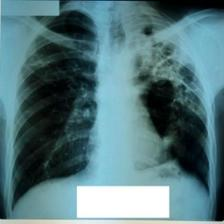tuberculosis: (8, 7, 219, 210)
